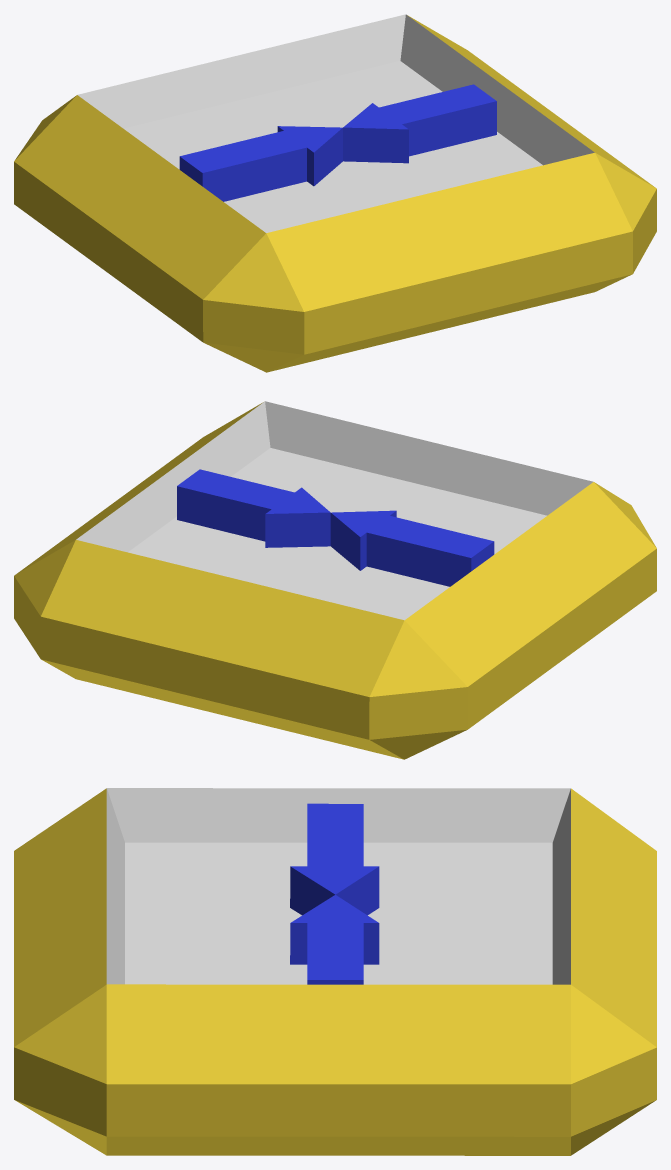
Rendered from aitem barshort.fbx.
3 views of the same model, one above another, from view 1: azimuth 30°, elevation 25°; view 2: azimuth 150°, elevation 25°; view 3: azimuth 270°, elevation 25° (orthographic). The views are drawn at different scales.
Visible parts, largest first — view 1: Cube; view 2: Cube; view 3: Cube.
Boxes of the visible parts, box(x1,y1,x2,y2) form: Cube: box(14, 14, 656, 372); Cube: box(14, 401, 656, 759); Cube: box(14, 788, 656, 1155).
Size of the model in its own units: 200 by 58.95 by 200.
